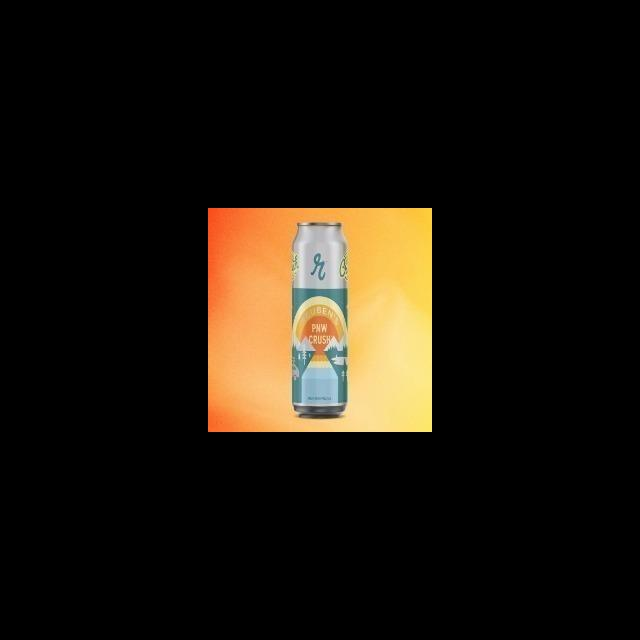metal: (275, 217, 362, 420)
